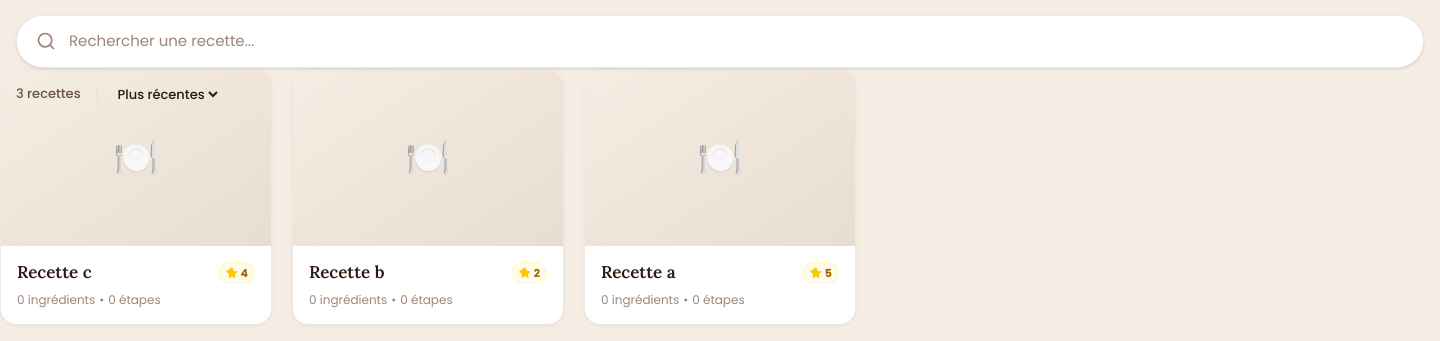
it: RecipeFilters sorting › peut trier par les mieux notées
The width and height of the screenshot is (1440, 341).
Select "Mieux notées" in the dropdown at {"x": 167, "y": 94}, box [114, 84, 221, 104]
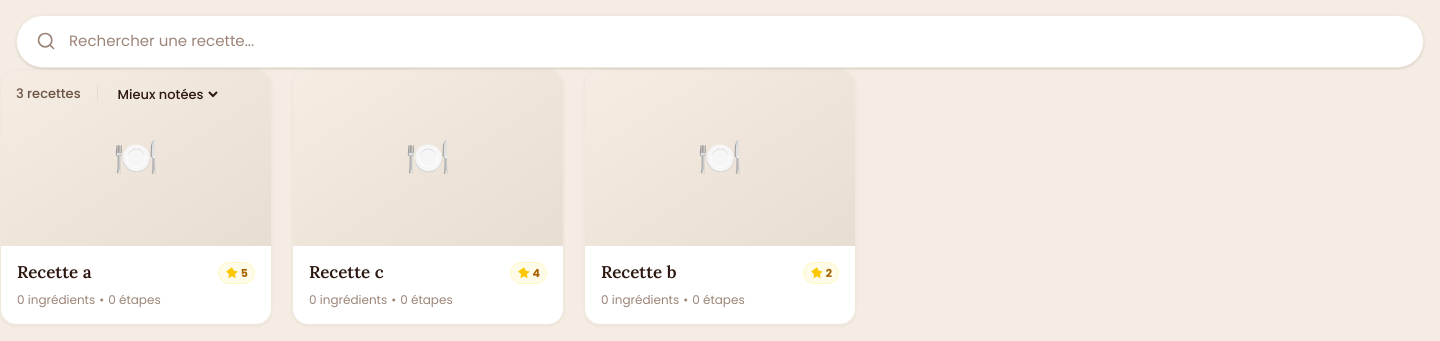
Check: the headings read "Recette a", "Recette c", "Recette b", in this order, box [17, 262, 92, 283]; [309, 262, 384, 283]; [601, 262, 676, 283]
